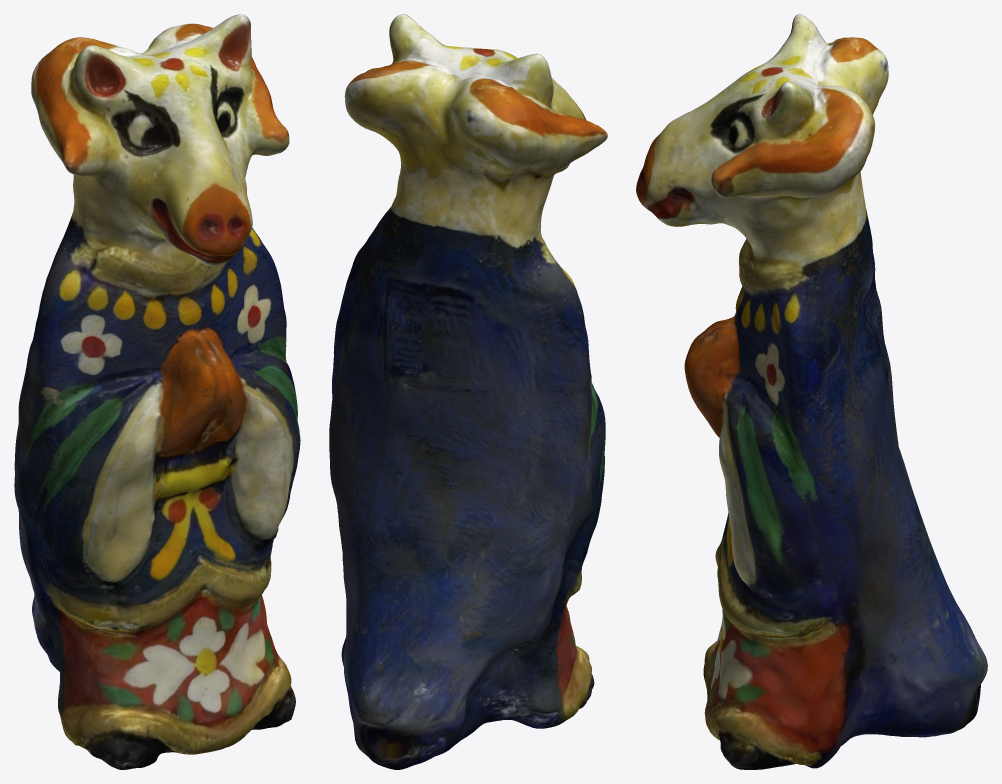
3 renders of one model, left to right at view 1: azimuth 30°, elevation 25°; view 2: azimuth 150°, elevation 25°; view 3: azimuth 270°, elevation 25°, orthographic. The views are drawn at different scales.
Size of the model in its own units: 0.1746 by 0.4404 by 0.2063.
1 material, 1 textured.
